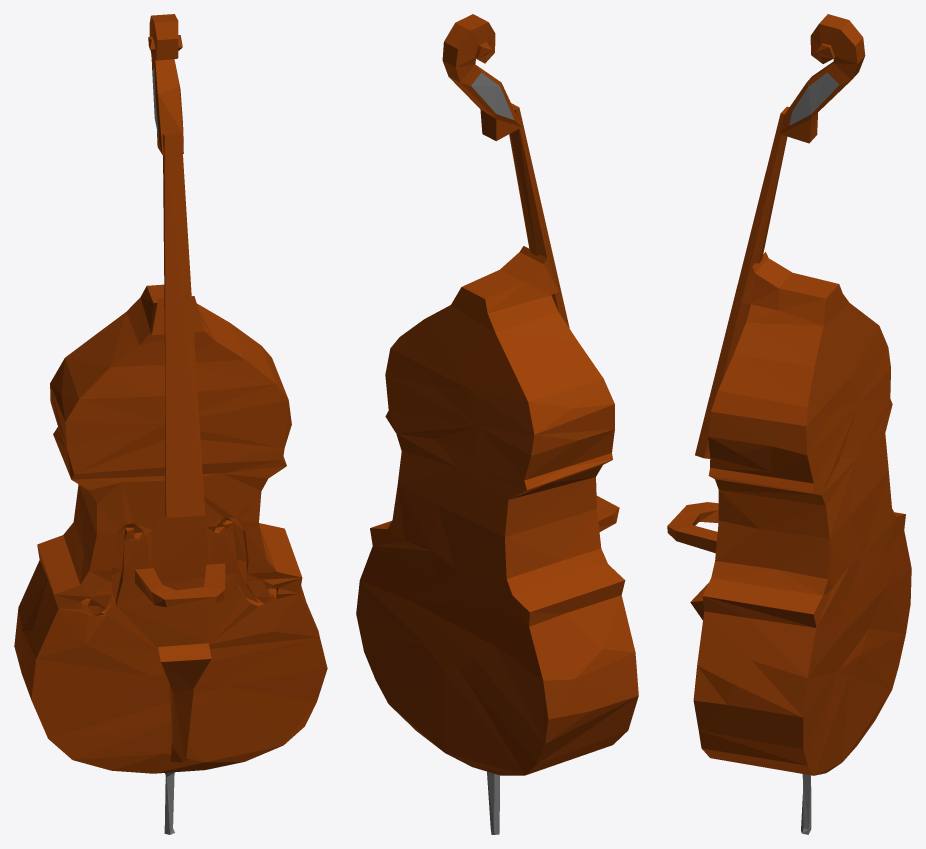
Rendered from Low_Poly_Bass.glb.
The picture shows the model from 3 angles, left to right: view 1: azimuth 30°, elevation 25°; view 2: azimuth 150°, elevation 25°; view 3: azimuth 270°, elevation 25°; orthographic projection. The views are drawn at different scales.
Parts seen in each view (by area): view 1: Cylinder_0, Cylinder_1, Cylinder_2, Cylinder_3; view 2: Cylinder_0, Cylinder_3, Cylinder_1, Cylinder_2; view 3: Cylinder_0, Cylinder_1, Cylinder_2, Cylinder_3.
Boxes of the visible parts, <box> form: Cylinder_0: <box>14,14,327,773</box>; Cylinder_1: <box>81,134,278,762</box>; Cylinder_2: <box>134,563,225,607</box>; Cylinder_3: <box>152,67,174,834</box>; Cylinder_0: <box>356,14,638,775</box>; Cylinder_3: <box>471,72,513,834</box>; Cylinder_1: <box>520,112,569,327</box>; Cylinder_2: <box>596,496,619,531</box>; Cylinder_0: <box>693,14,911,775</box>; Cylinder_1: <box>690,119,779,619</box>; Cylinder_2: <box>667,502,718,552</box>; Cylinder_3: <box>789,72,839,834</box>.
Size of the model in its own units: 3.88 by 10.77 by 2.92.
